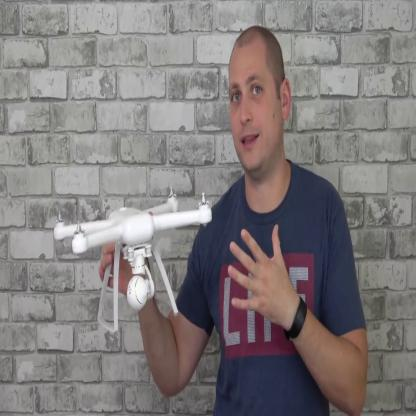drone: (49, 184, 218, 258)
